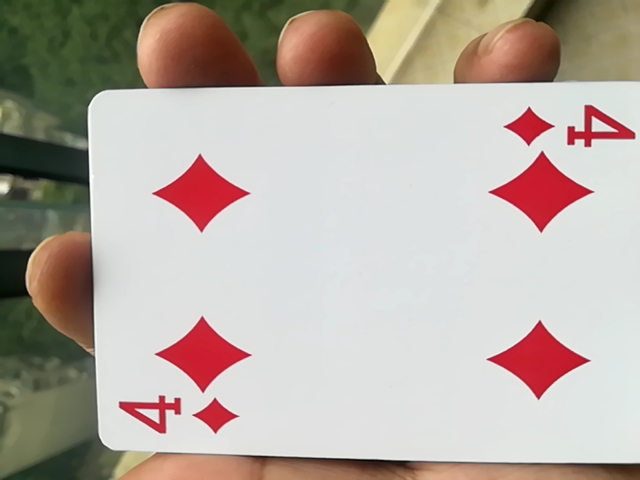fk 4: (76, 83, 637, 473)
